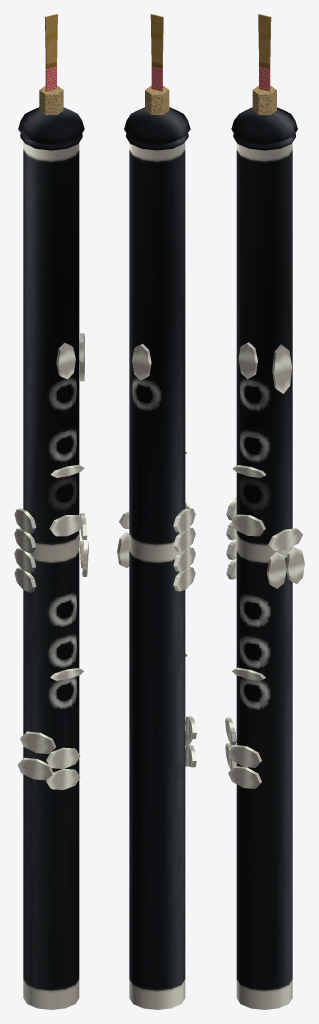
Rendered from OboeBody.fbx.
3 views of the same model, side by side, from view 1: azimuth 30°, elevation 25°; view 2: azimuth 150°, elevation 25°; view 3: azimuth 330°, elevation 25° (orthographic).
Visible parts, largest first — view 1: ClarinetBody; view 2: ClarinetBody; view 3: ClarinetBody.
Boxes of the visible parts, left/top/right/bottom form: ClarinetBody: left=14, top=14, right=88, bottom=1009; ClarinetBody: left=117, top=14, right=196, bottom=1009; ClarinetBody: left=225, top=14, right=304, bottom=1009.
Size of the model in its own units: 1.6 by 20.59 by 1.31.
1 material, 1 textured.
